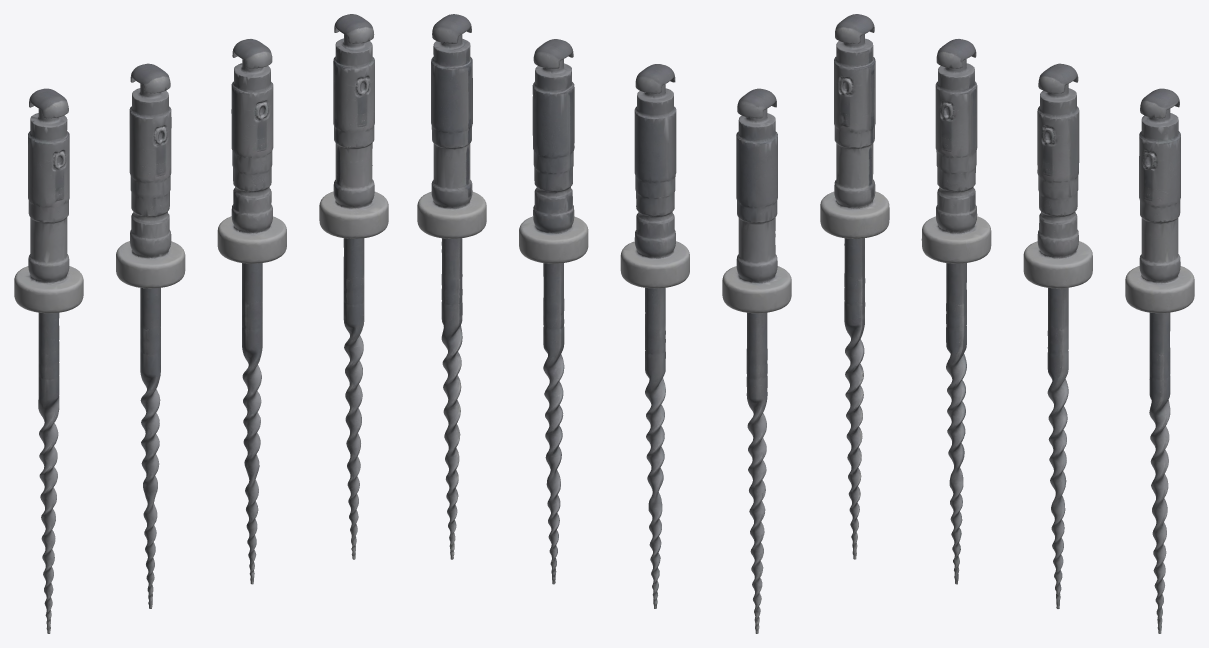
File: limas-web.glb
The picture shows the model from 3 angles, left to right: view 1: azimuth 30°, elevation 25°; view 2: azimuth 150°, elevation 25°; view 3: azimuth 330°, elevation 25°; orthographic projection.
Parts seen in each view (by area): view 1: mesh_node; view 2: mesh_node; view 3: mesh_node.
Part boxes in pixels (x1,y1,x2,y2): mesh_node: (14,14,388,633); mesh_node: (417,14,791,633); mesh_node: (820,14,1194,633).
Size of the model in its own units: 1.34 by 1.9 by 0.2223.
1 material, 1 textured.
